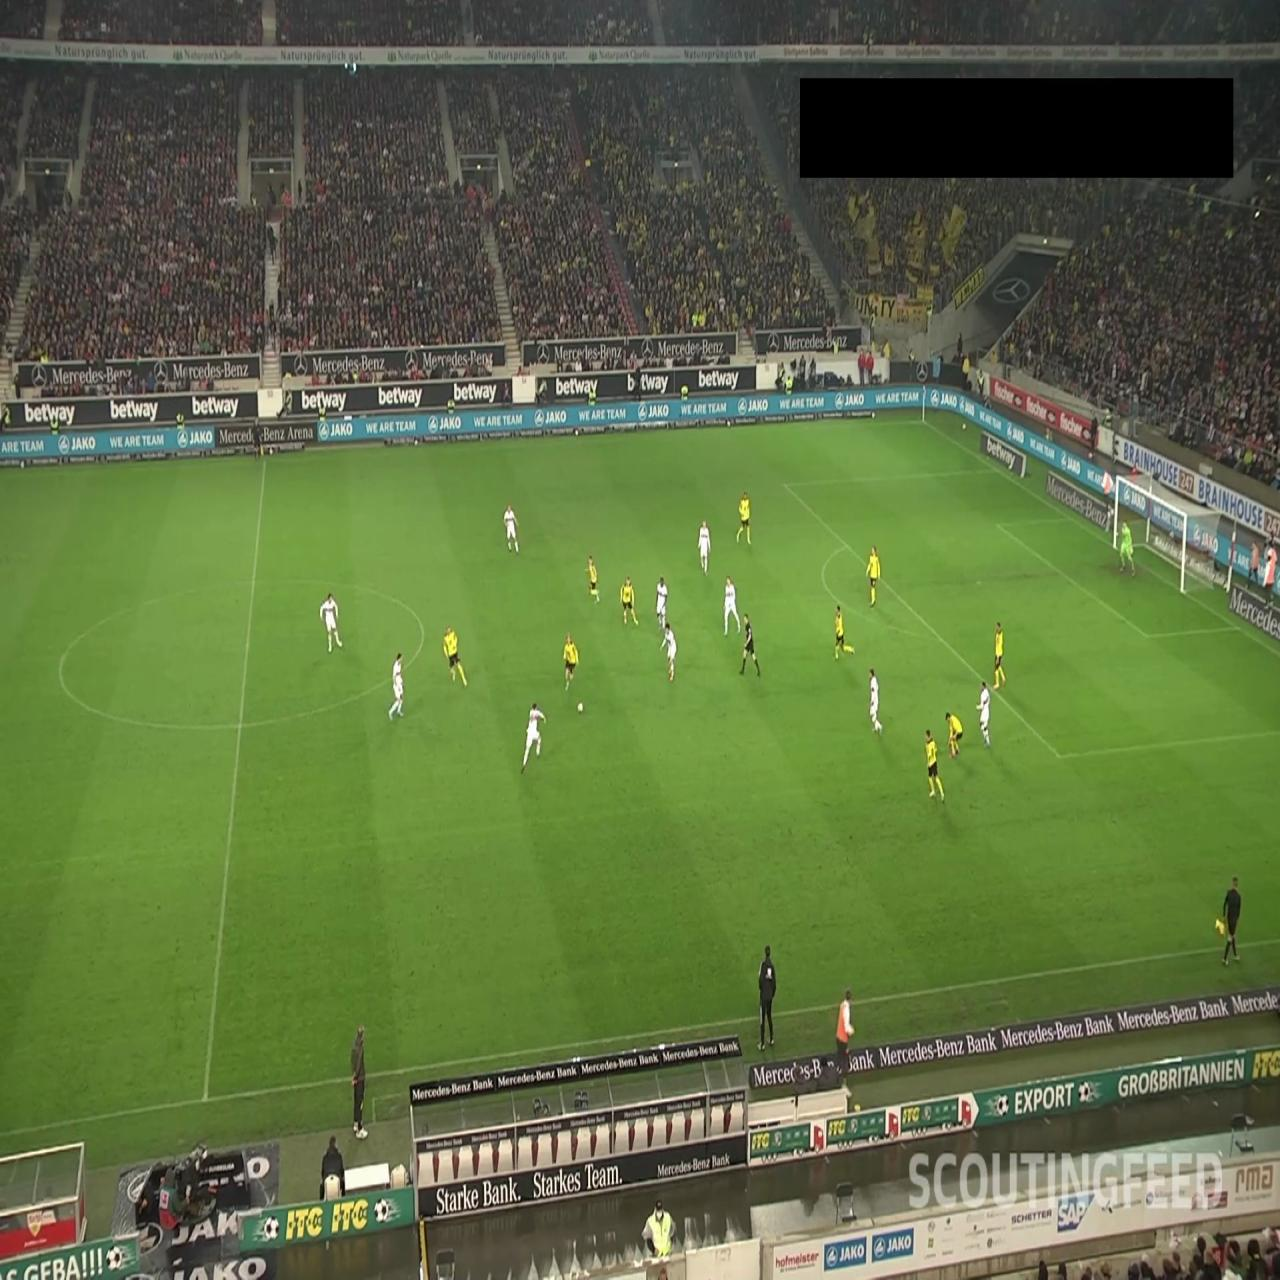ball: (577, 700, 584, 714)
goalkeeper: (1118, 521, 1136, 576)
player: (521, 700, 547, 774), (443, 624, 468, 688), (924, 728, 945, 804), (319, 590, 344, 653), (659, 621, 678, 683), (722, 575, 741, 636), (388, 652, 405, 719), (868, 667, 882, 737), (992, 621, 1006, 690), (978, 679, 992, 748), (620, 574, 638, 627), (834, 603, 851, 659), (563, 633, 579, 692), (736, 489, 752, 546), (866, 545, 880, 607), (944, 710, 962, 758), (504, 504, 520, 554), (655, 575, 668, 630), (698, 520, 711, 575), (586, 554, 600, 604)
referee: (1214, 875, 1242, 969), (739, 613, 760, 678), (252, 414, 265, 462)
